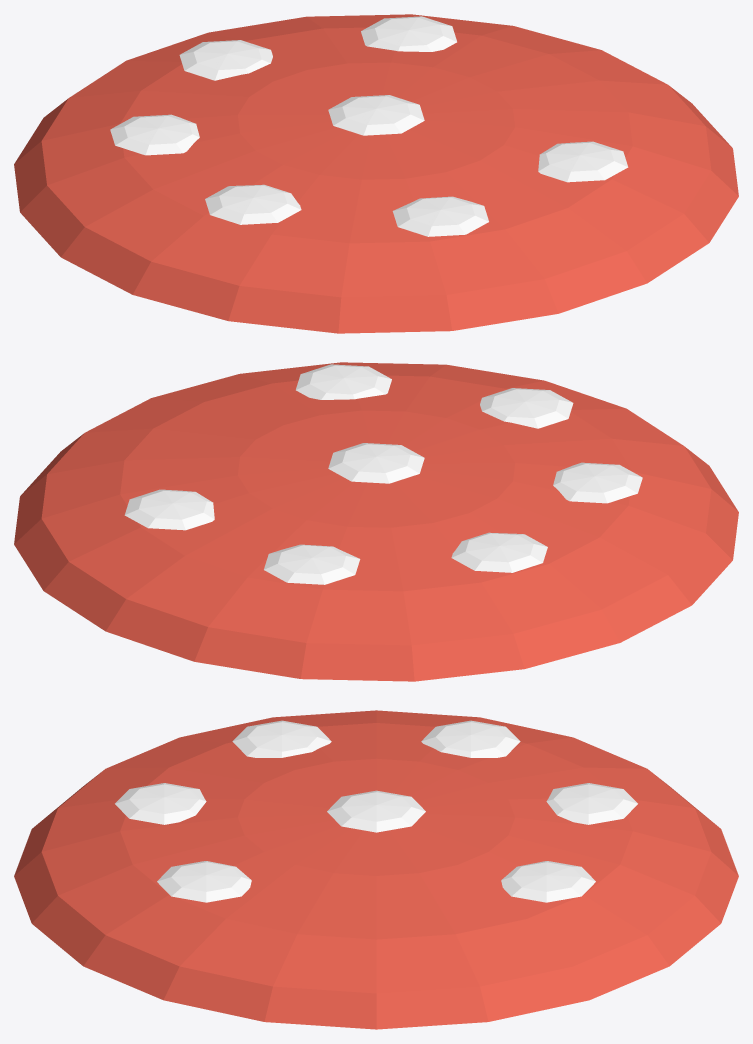
File: bouncepad_r34_backup.glb
The picture shows the model from 3 angles, top to bottom: view 1: azimuth 30°, elevation 25°; view 2: azimuth 150°, elevation 25°; view 3: azimuth 270°, elevation 25°; orthographic projection.
Parts seen in each view (by area): view 1: BouncePad; view 2: BouncePad; view 3: BouncePad.
Boxes of the visible parts, box(x1,y1,x2,y2) form: BouncePad: box(14, 14, 738, 333); BouncePad: box(14, 362, 738, 681); BouncePad: box(14, 710, 738, 1029).
Size of the model in its own units: 3.5 by 0.58 by 3.5.
